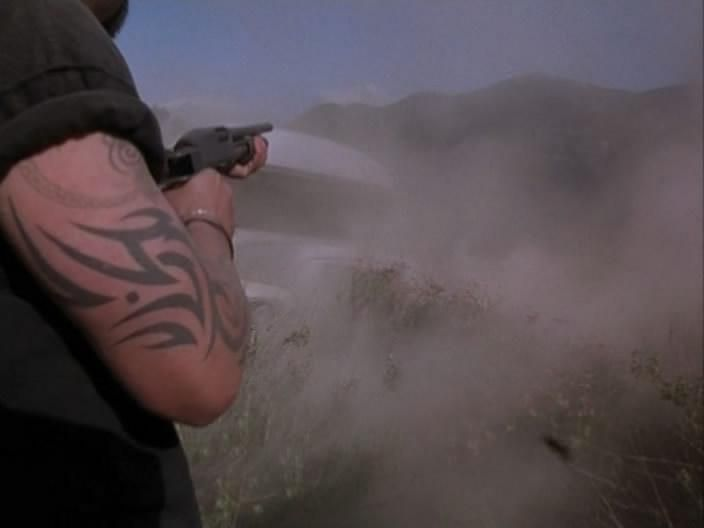gun: (155, 110, 285, 207)
